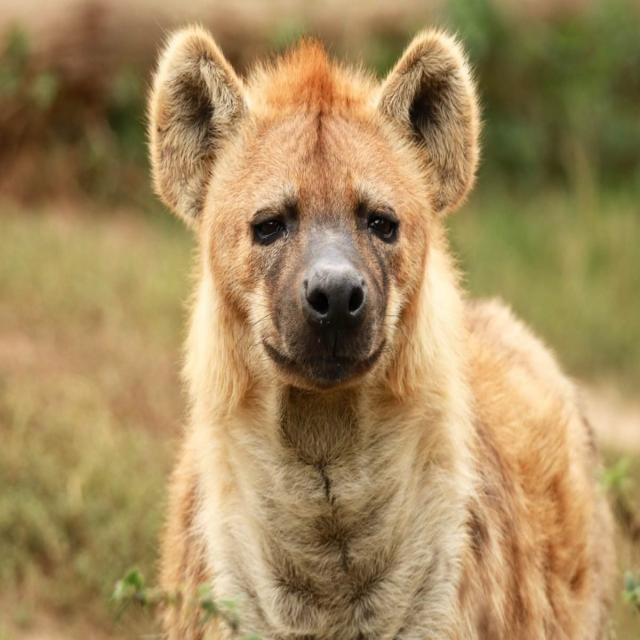Hyena: (148, 25, 613, 640)
